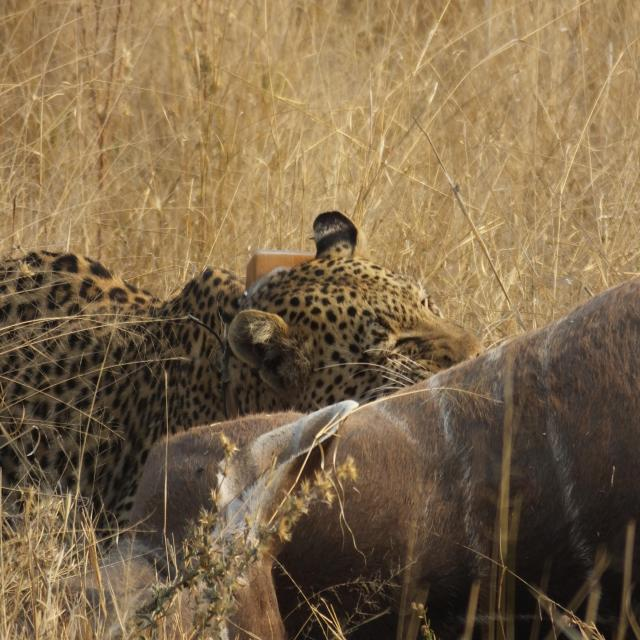Leopard: (0, 222, 478, 556)
